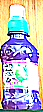blueberries: (1, 4, 43, 109)
